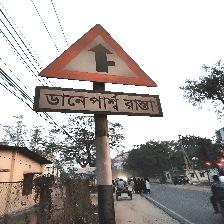Side-road-right: (33, 23, 162, 118)
